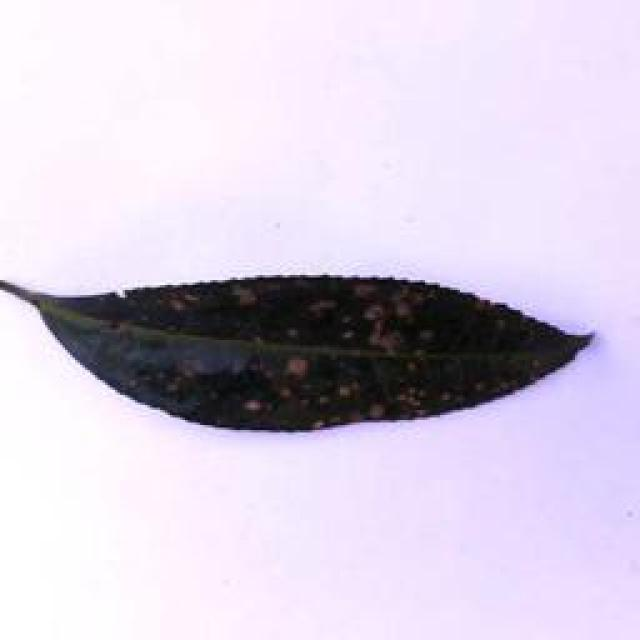Algal Leaf Spot: (43, 266, 594, 437)
